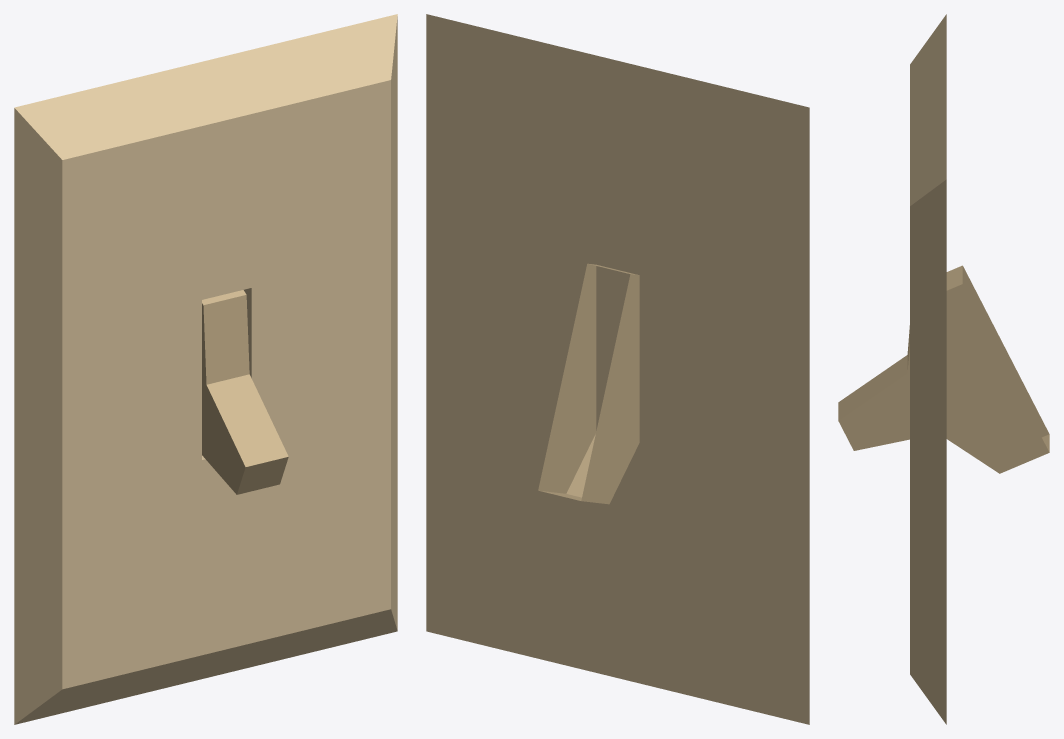
File: LightSwitch.fbx
The picture shows the model from 3 angles, left to right: view 1: azimuth 30°, elevation 25°; view 2: azimuth 150°, elevation 25°; view 3: azimuth 270°, elevation 25°; orthographic projection. The views are drawn at different scales.
Parts seen in each view (by area): view 1: LightSwitch, LightSwitch_Toggle; view 2: LightSwitch, LightSwitch_Toggle; view 3: LightSwitch, LightSwitch_Toggle.
Boxes of the visible parts, left/top/right/bottom form: LightSwitch: left=14, top=14, right=397, bottom=724; LightSwitch_Toggle: left=202, top=290, right=288, bottom=494; LightSwitch: left=426, top=14, right=809, bottom=724; LightSwitch_Toggle: left=538, top=263, right=639, bottom=504; LightSwitch: left=910, top=14, right=946, bottom=724; LightSwitch_Toggle: left=838, top=265, right=1049, bottom=473.
Size of the model in its own units: 853 by 1312 by 460.
1 material, 1 textured.
